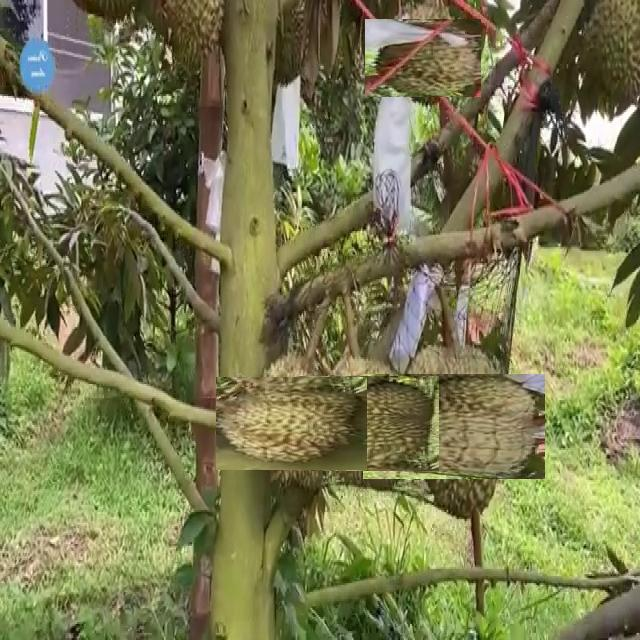durian: (382, 354, 526, 498), (230, 362, 353, 485), (308, 364, 427, 484), (374, 9, 471, 107)
